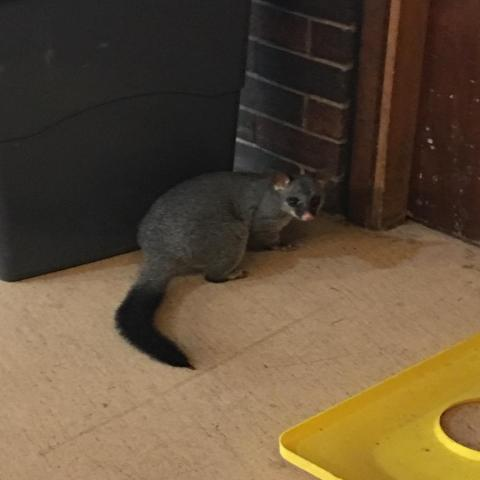small_animal: (113, 167, 328, 371)
